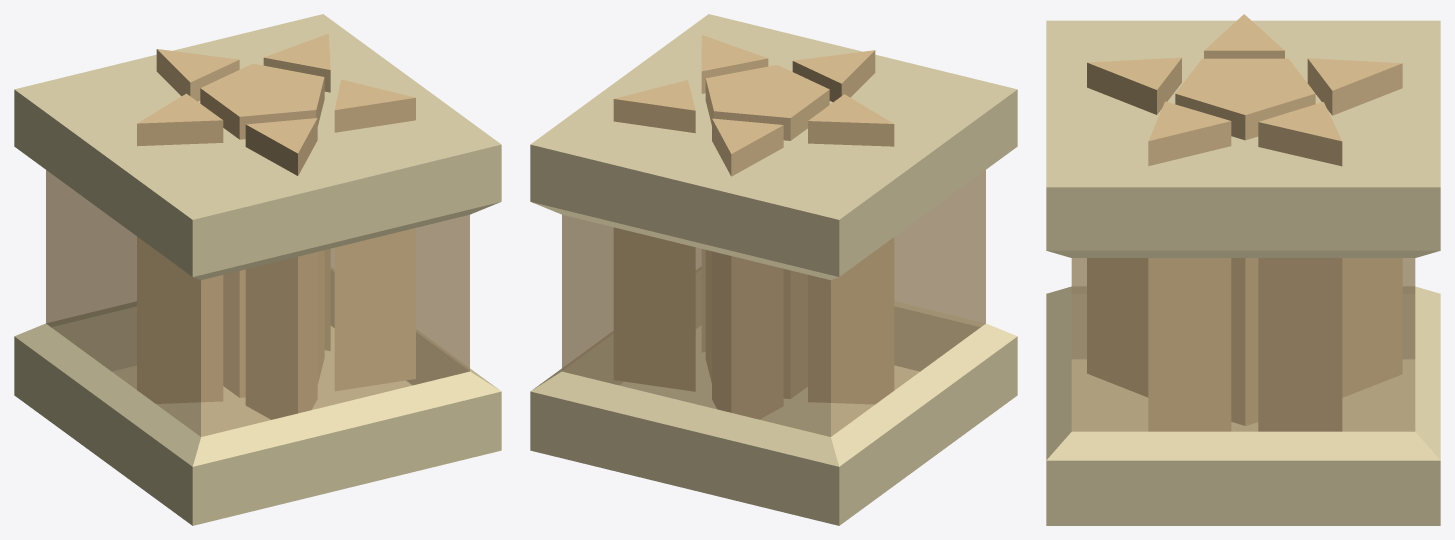
File: gold.fbx
3 renders of one model, left to right at view 1: azimuth 30°, elevation 25°; view 2: azimuth 150°, elevation 25°; view 3: azimuth 270°, elevation 25°, orthographic. The views are drawn at different scales.
Parts seen in each view (by area): view 1: polySurface41; view 2: polySurface41; view 3: polySurface41.
Boxes of the visible parts, x1,y1,x2,y2 form: polySurface41: (14, 14, 501, 525); polySurface41: (530, 14, 1017, 525); polySurface41: (1046, 14, 1440, 525).
Size of the model in its own units: 2 by 2.03 by 2.
